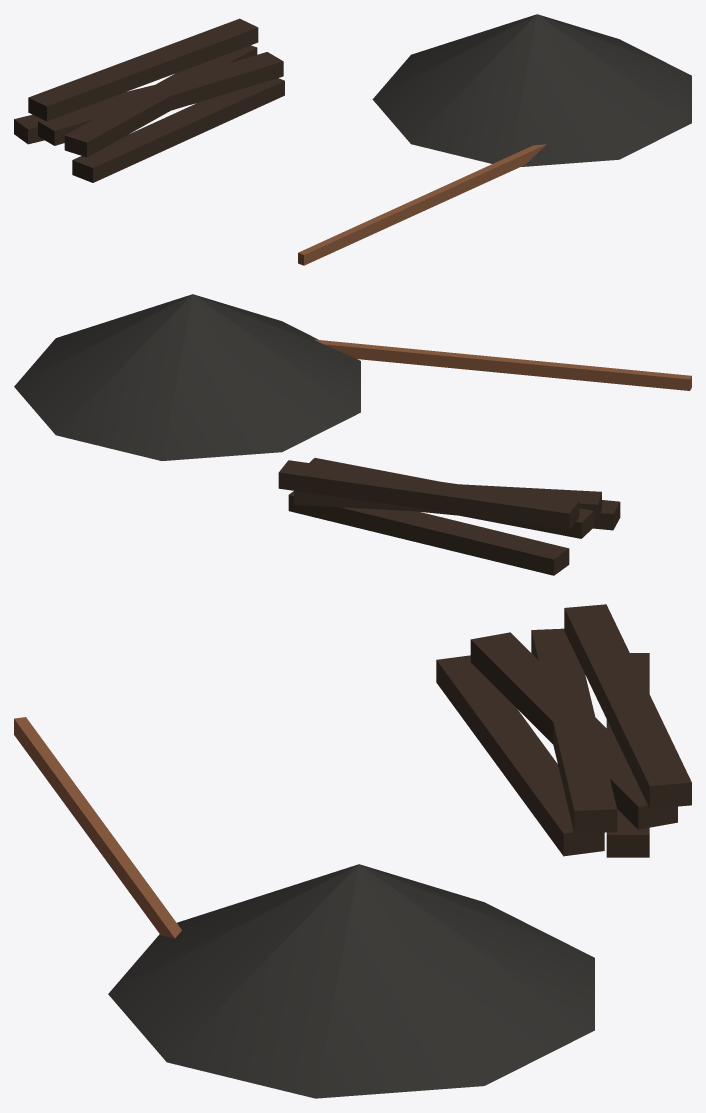
The model's file is switchyard_terrain_scatter.glb.
3 views of the same model, one above another, from view 1: azimuth 30°, elevation 25°; view 2: azimuth 150°, elevation 25°; view 3: azimuth 270°, elevation 25° (orthographic). The views are drawn at different scales.
Parts seen in each view (by area): view 1: scatter_spoil, scatter_sleeper2, scatter_sleeper3, scatter_sleeper1, scatter_rail, scatter_sleeper4, scatter_sleeper0; view 2: scatter_spoil, scatter_sleeper2, scatter_sleeper0, scatter_rail, scatter_sleeper4, scatter_sleeper1, scatter_sleeper3; view 3: scatter_spoil, scatter_sleeper2, scatter_sleeper3, scatter_sleeper1, scatter_sleeper4, scatter_rail, scatter_sleeper0.
Part boxes in pixels (x1,y1,x2,y2): scatter_spoil: (372,14,691,166); scatter_sleeper2: (28,18,258,121); scatter_sleeper3: (72,78,284,182); scatter_sleeper1: (38,52,283,145); scatter_rail: (298,144,546,265); scatter_sleeper4: (64,45,257,157); scatter_sleeper0: (14,85,198,144); scatter_spoil: (14,294,360,460); scatter_sleeper2: (278,460,579,529); scatter_sleeper0: (288,491,569,575); scatter_rail: (314,339,691,390); scatter_sleeper4: (294,484,601,520); scatter_sleeper1: (309,458,594,538); scatter_sleeper3: (418,500,620,530); scatter_spoil: (108,864,594,1098); scatter_sleeper2: (564,604,691,808); scatter_sleeper3: (436,655,604,856); scatter_sleeper1: (531,628,617,833); scatter_sleeper4: (470,632,677,829); scatter_rail: (14,717,181,938); scatter_sleeper0: (606,653,649,857).
Bounding box in the file's own units: 5.58 × 0.8 × 3.78.
